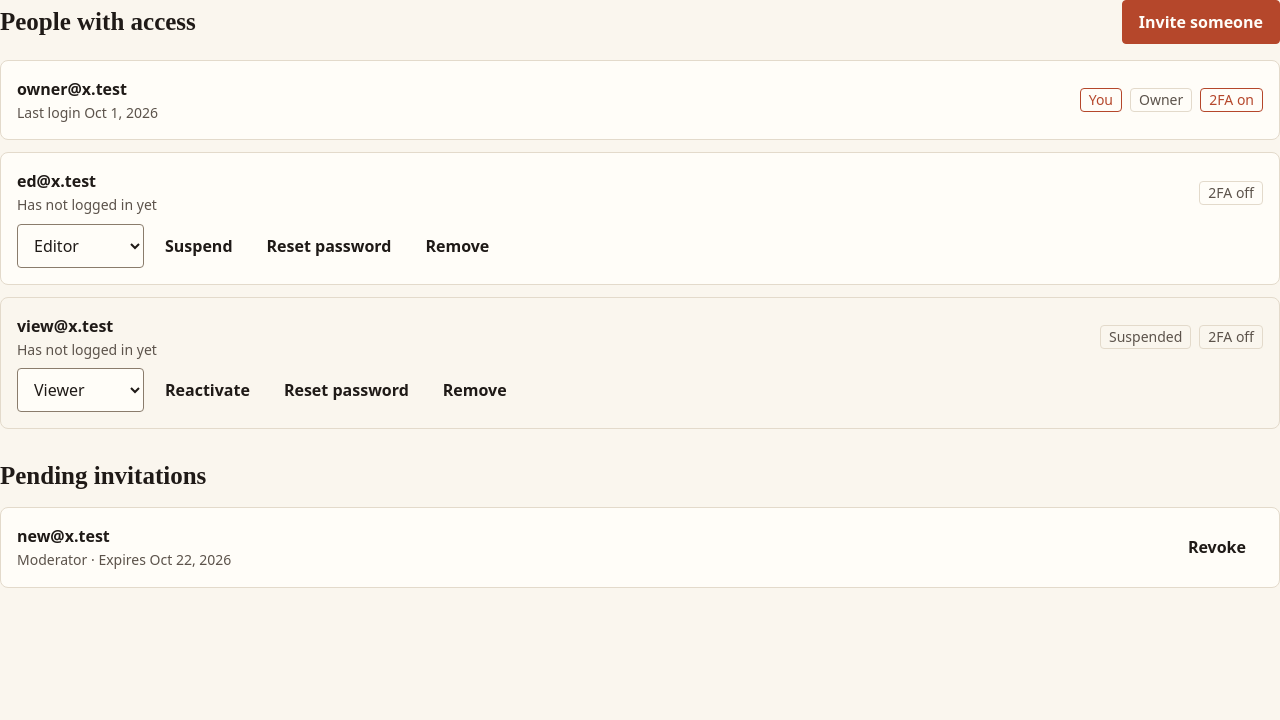
Test: MembersManager › asks before removing and keeps the dialog open on error
This screenshot has width=1280, height=720.
Click the button with aria-label "Remove ed@x.test" at (457,246), box x1=408 y1=224 x2=506 y2=268
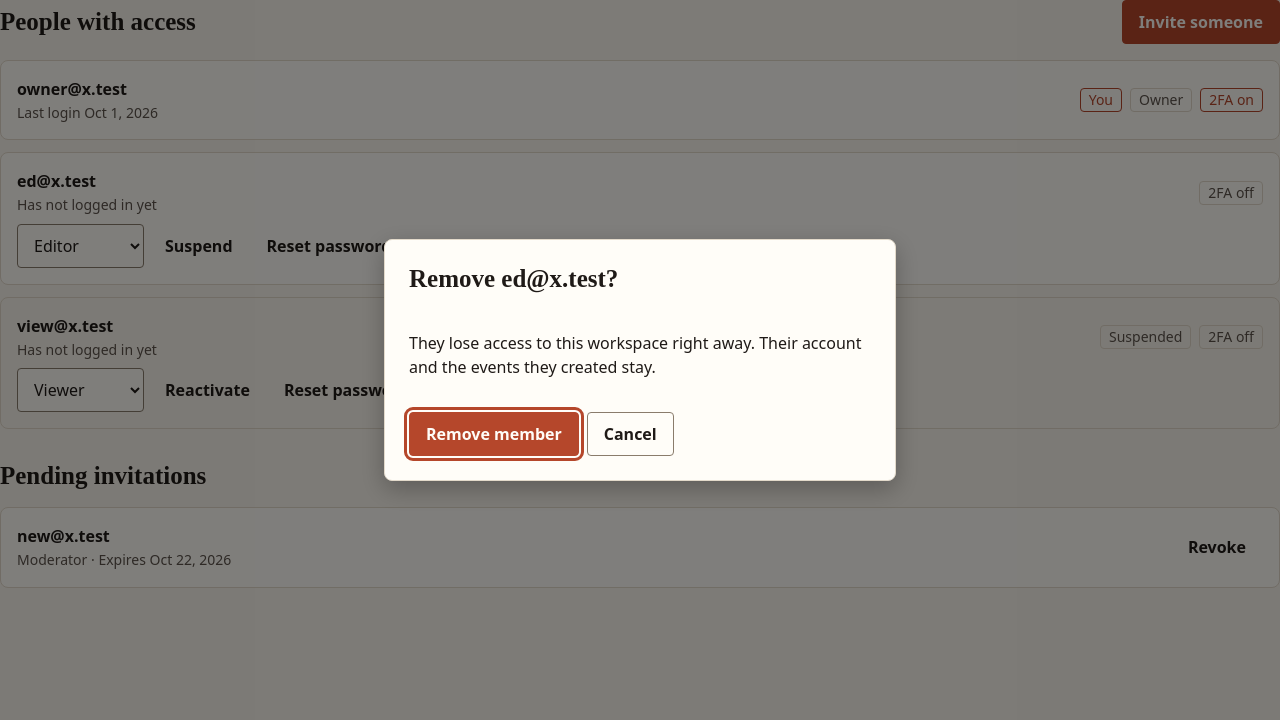
Expected: the dialog "Remove ed@x.test?" is shown, x1=384 y1=239 x2=896 y2=481
Click the button "Remove member" at (494,434), box x1=409 y1=412 x2=579 y2=456
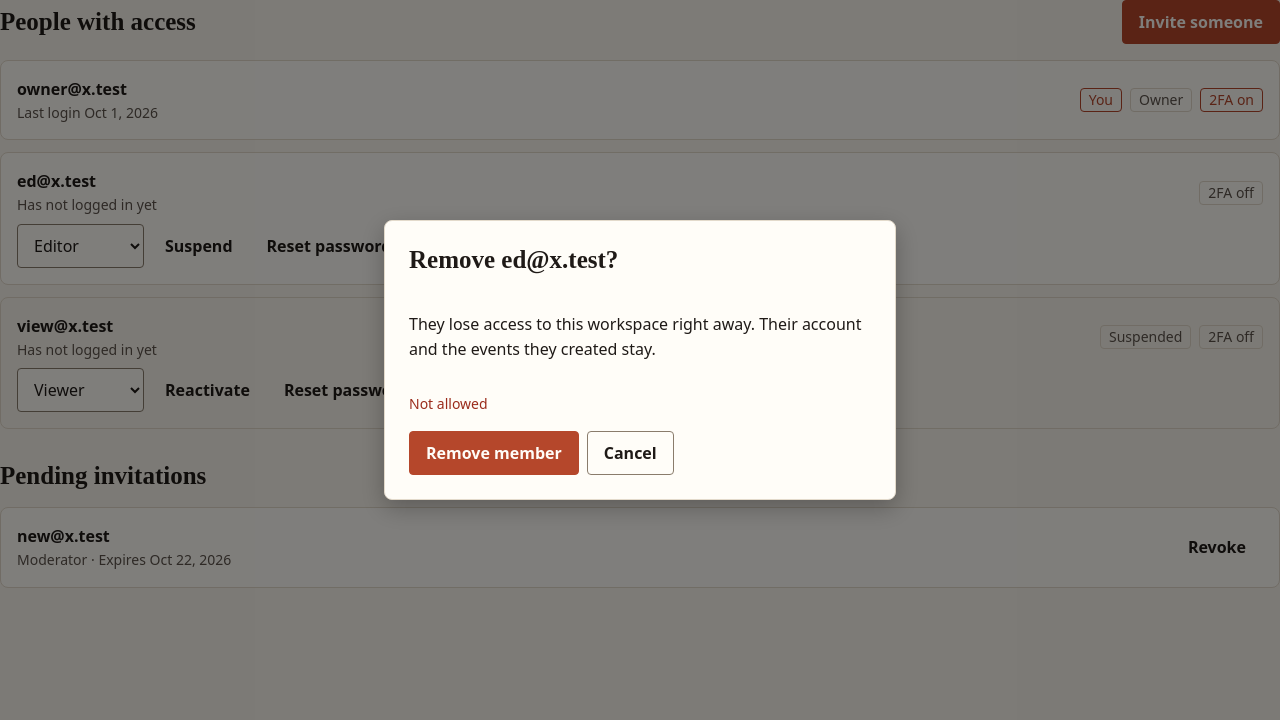
Expected: the message reads "Not allowed", x1=409 y1=394 x2=488 y2=413
